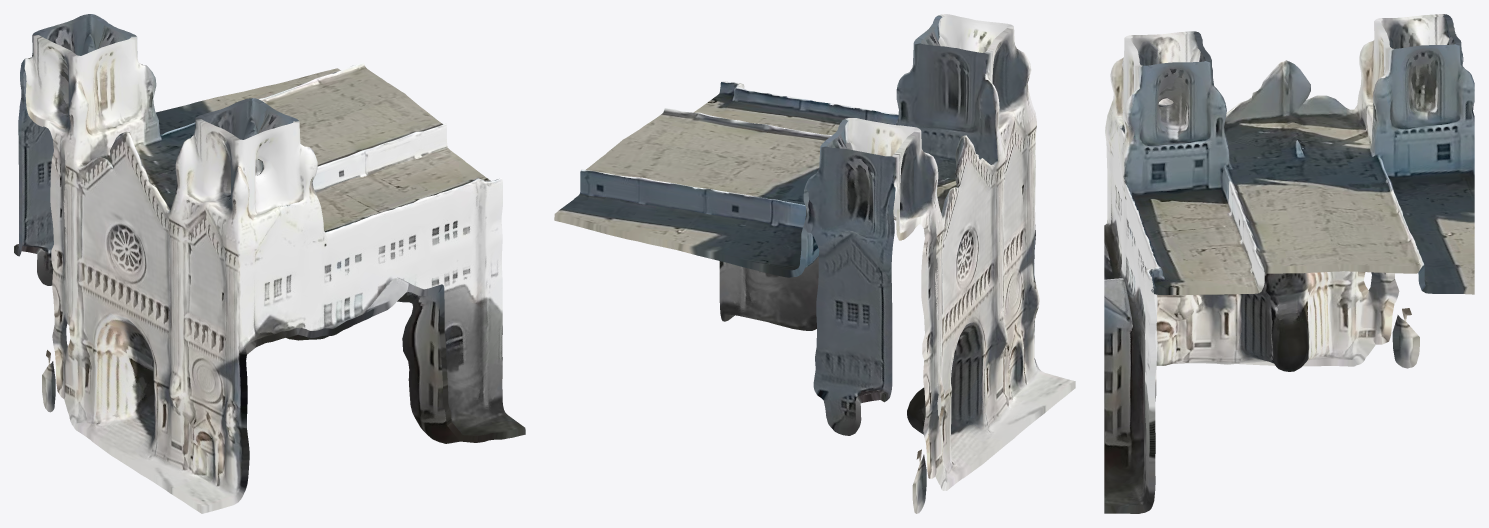
The model's file is z20-167742-405198-h0-yup-uvflip-v3-world.glb.
3 views of the same model, side by side, from view 1: azimuth 30°, elevation 25°; view 2: azimuth 150°, elevation 25°; view 3: azimuth 270°, elevation 25° (orthographic). The views are drawn at different scales.
Size of the model in its own units: 30.2 by 32.2 by 30.32.
1 material, 1 textured.
